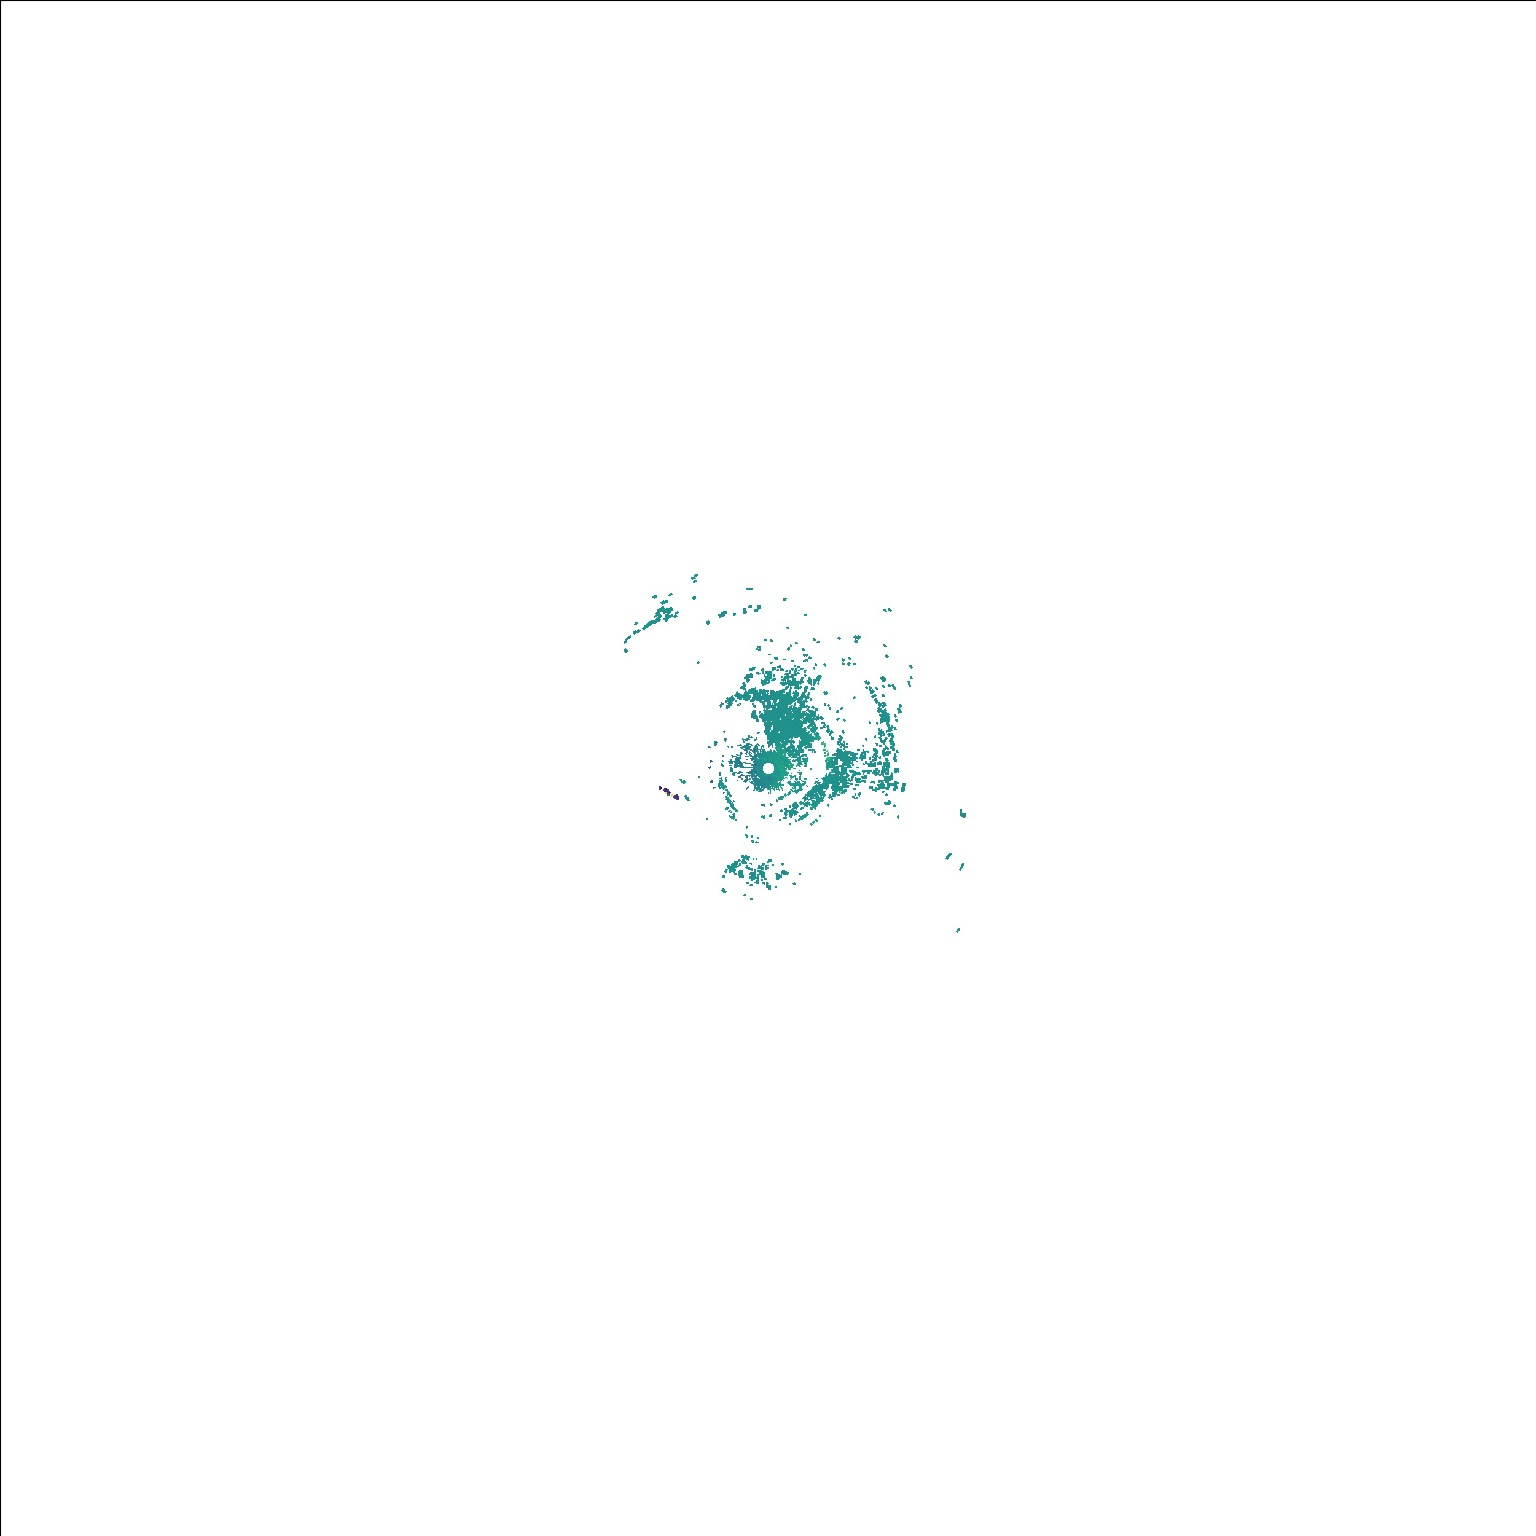fall: (651, 781, 681, 805)
